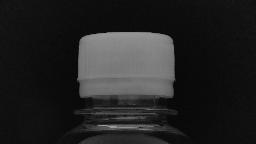Loose Cap: (69, 74, 185, 120)
